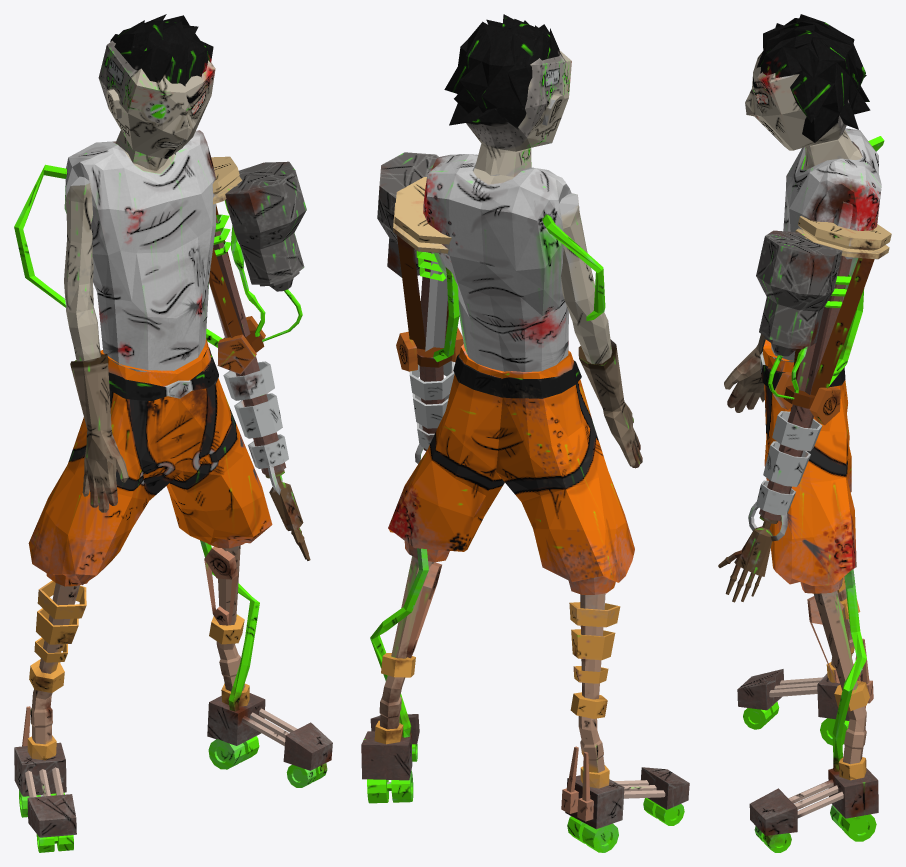
The model's file is CyborgFINALAnimation_000052.obj.
3 renders of one model, left to right at view 1: azimuth 30°, elevation 25°; view 2: azimuth 150°, elevation 25°; view 3: azimuth 270°, elevation 25°, orthographic. The views are drawn at different scales.
Parts seen in each view (by area): view 1: CyborgMesh_Cube.002; view 2: CyborgMesh_Cube.002; view 3: CyborgMesh_Cube.002.
Part boxes in pixels (box(x1,y1,x2,y2)): CyborgMesh_Cube.002: box(14, 14, 332, 852); CyborgMesh_Cube.002: box(361, 14, 689, 852); CyborgMesh_Cube.002: box(718, 14, 891, 852).
Bounding box in the file's own units: 3.86 × 9.65 × 1.98.
